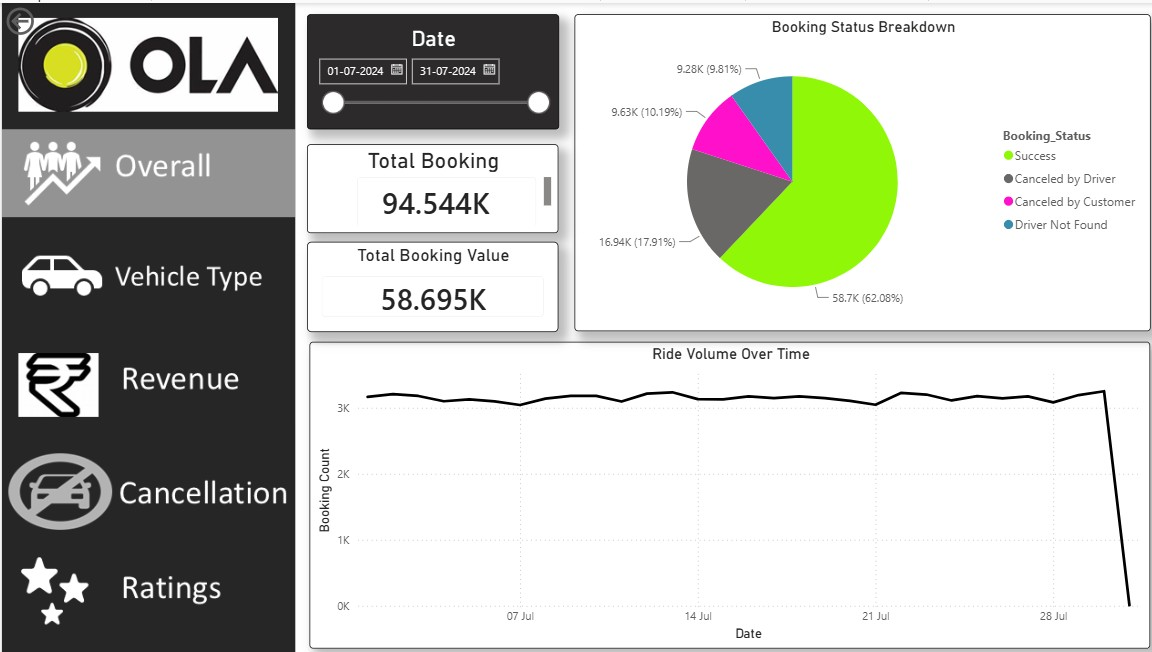

Layout of this report page (visuals, bound fields, positions):
{"tool":"powerbi","page":{"name":"Overall","canvas":[1280,720],"ordinal":0},"visuals":[{"type":"actionButton","box":[0,252.1,322.1,96.5],"z":0},{"type":"actionButton","box":[0,369.2,322.1,96.5],"z":1000},{"type":"actionButton","box":[0,491,322.1,96.5],"z":2000},{"type":"actionButton","box":[0,602,322.1,96.5],"z":3000},{"type":"actionButton","box":[0,138.7,322.1,96.5],"z":5000},{"type":"lineChart","title":"Ride Volume Over Time","fields":{"Y":["Count(July.Booking_ID)"],"Category":["July.Date"]},"box":[337.8,371.6,924.1,336.6],"z":6000},{"type":"pieChart","title":" Booking Status Breakdown","fields":{"Category":["July.Booking_Status"],"Y":["CountNonNull(July.Booking_Status)"]},"box":[628.3,11.7,633.3,348.3],"z":7000},{"type":"slicer","title":"Date","fields":{"Values":["July.Date"]},"box":[335,11.7,276.7,126.7],"z":8000},{"type":"cardVisual","title":"Total Booking","fields":{"Data":["CountNonNull(July.Booking_ID)"]},"box":[334.2,154.4,276.3,97.7],"z":9000},{"type":"cardVisual","title":"Total Booking Value","fields":{"Data":["CountNonNull(July.Booking_Status)"]},"box":[335.4,261.8,276.3,98.9],"z":10000},{"type":"actionButton","box":[0,0,100,40],"z":11000}]}

Visuals, with their boxes in screenshot pixels (x1, y1, x2, y2), scaled from the page's 1280x720 canvas onto the 1152x652 screenshot:
actionButton: (left=0, top=228, right=290, bottom=316)
actionButton: (left=0, top=334, right=290, bottom=422)
actionButton: (left=0, top=445, right=290, bottom=532)
actionButton: (left=0, top=545, right=290, bottom=633)
actionButton: (left=0, top=126, right=290, bottom=213)
"Ride Volume Over Time" lineChart: (left=304, top=337, right=1136, bottom=641)
" Booking Status Breakdown" pieChart: (left=565, top=11, right=1135, bottom=326)
"Date" slicer: (left=302, top=11, right=551, bottom=125)
"Total Booking" cardVisual: (left=301, top=140, right=549, bottom=228)
"Total Booking Value" cardVisual: (left=302, top=237, right=551, bottom=327)
actionButton: (left=0, top=0, right=90, bottom=36)
